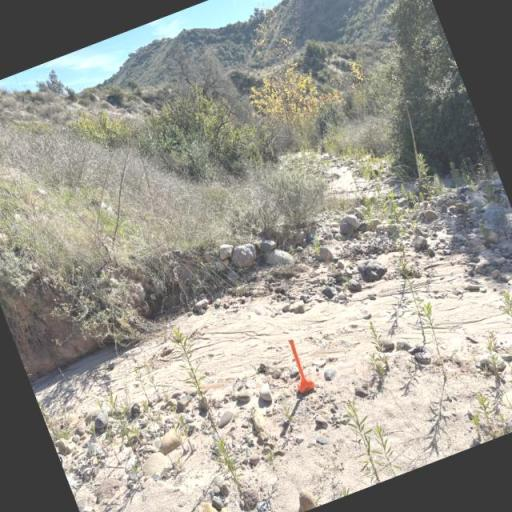mallet: (280, 336, 316, 394)
